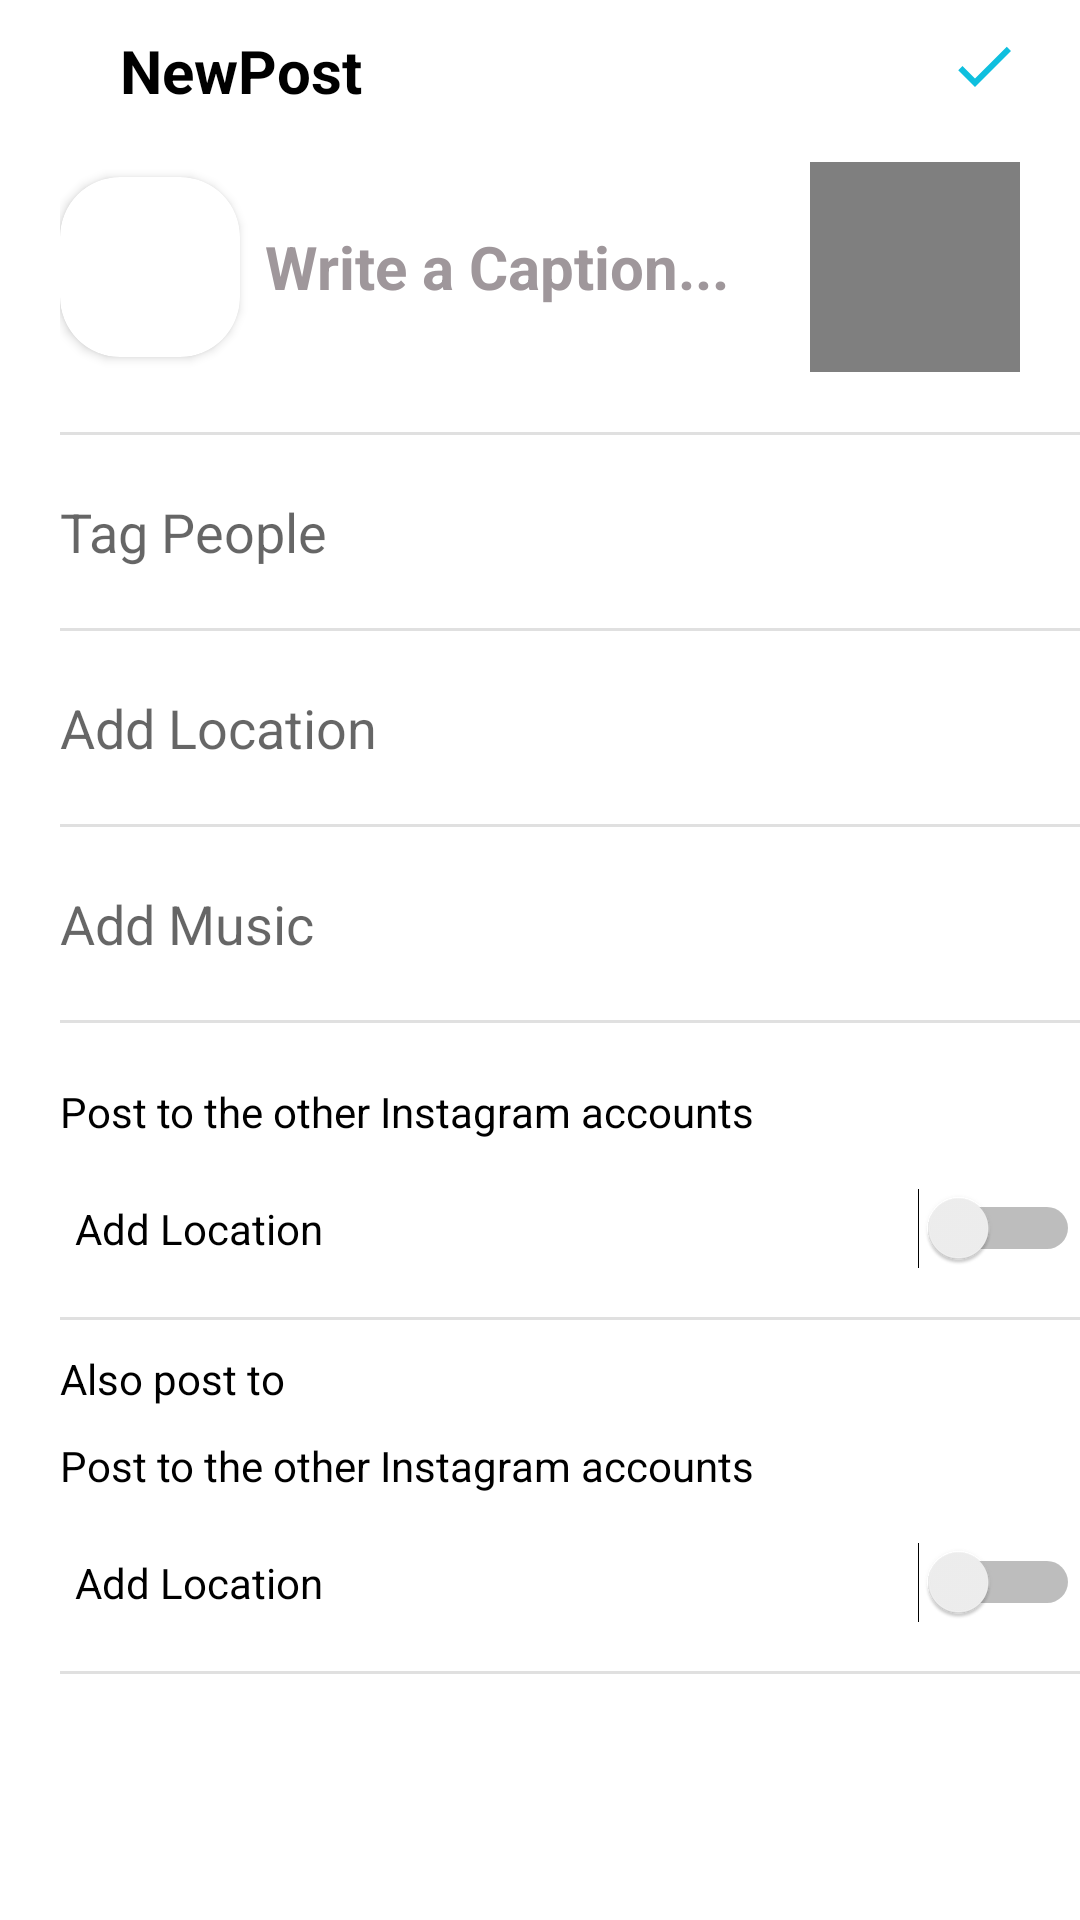

Icon click points for this 1080×1920 phone screenshot, format [x,y]:
right check: [984,67]
